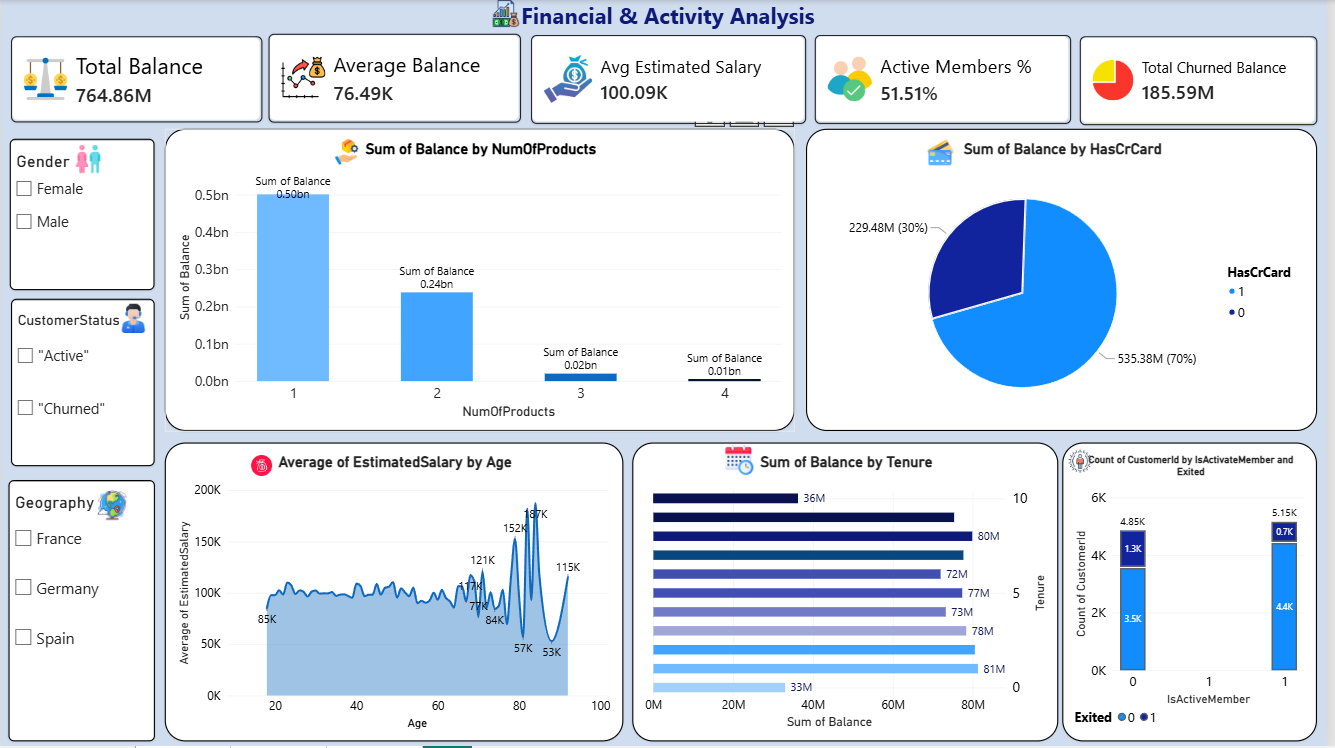

Layout of this report page (visuals, bound fields, positions):
{"tool":"powerbi","page":{"name":"Page 3","canvas":[1920,1080],"ordinal":2},"visuals":[{"type":"textbox","box":[10.9,0,1909.2,52.5],"z":0},{"type":"slicer","fields":{"Values":["Churn_Modelling.Gender"]},"box":[12.7,200.9,209.9,219],"z":1000},{"type":"slicer","fields":{"Values":["Churn_Modelling.CustomerStatus"]},"box":[14.5,432.5,208,242],"z":2000},{"type":"slicer","fields":{"Values":["Churn_Modelling.Geography"]},"box":[10.9,694.9,211.7,378.2],"z":3000},{"type":"clusteredColumnChart","title":"Sum of Balance by NumOfProducts","fields":{"Category":["Churn_Modelling.NumOfProducts"],"Y":["Sum(Churn_Modelling.Balance)"]},"box":[237.1,186.4,912.1,437.9],"z":4000},{"type":"pieChart","title":"Sum of Balance by HasCrCard ","fields":{"Category":["Churn_Modelling.HasCrCard"],"Y":["Sum(Churn_Modelling.Balance)"]},"box":[1165.4,186.4,740.2,437.9],"z":5000},{"type":"lineChart","title":"Average of EstimatedSalary by Age","fields":{"Category":["Churn_Modelling.Age"],"Y":["Avg(Churn_Modelling.EstimatedSalary)"]},"box":[237.1,640.6,664.1,432.5],"z":6000},{"type":"clusteredBarChart","title":"Sum of Balance by Tenure","fields":{"Category":["Churn_Modelling.Tenure"],"Y":["Sum(Churn_Modelling.Balance)"]},"box":[913.9,640.6,617.1,432.5],"z":7000},{"type":"columnChart","title":"Count of CustomerId by IsActivateMember and Exited","fields":{"Category":["Churn_Modelling.IsActiveMember"],"Y":["CountNonNull(Churn_Modelling.CustomerId)"],"Series":["Churn_Modelling.Exited"]},"box":[1536.4,640.6,369.2,432.5],"z":8000},{"type":"cardVisual","fields":{"Data":["Churn_Modelling.Total Balance"]},"box":[14.5,52.5,363.7,124.9],"z":9000},{"type":"cardVisual","fields":{"Data":["Churn_Modelling.Average Balance"]},"box":[387.3,48.9,365.6,128.5],"z":10000},{"type":"cardVisual","fields":{"Data":["Churn_Modelling.Avg Estimated Salary"]},"box":[767.3,50.7,398.1,128.5],"z":11000},{"type":"cardVisual","fields":{"Data":["Churn_Modelling.Active Members %"]},"box":[1178.1,50.7,371,128.5],"z":12000},{"type":"cardVisual","fields":{"Data":["Churn_Modelling.Total Churned Balance"]},"box":[1561.7,52.5,343.8,128.5],"z":13000},{"type":"image","box":[602.6,0,181,48.9],"z":14000},{"type":"image","box":[470,201.1,60,37.8],"z":15000},{"type":"image","box":[1313.3,200,93.3,40],"z":16000},{"type":"image","box":[350,658.9,56,30],"z":17000},{"type":"image","box":[1036.7,645,63.3,43.3],"z":18000},{"type":"image","box":[1545.6,645.6,33.3,43.3],"z":19000},{"type":"image","box":[103.3,210,45.6,41.1],"z":20000},{"type":"image","box":[158.9,440,64.4,42.2],"z":21000},{"type":"image","box":[130,710,61.2,43.8],"z":22000}]}

Visuals, with their boxes in screenshot pixels (x1, y1, x2, y2), scaled from the page's 1920x1080 canvas onto the 1335x748 screenshot:
textbox: bbox(8, 0, 1334, 36)
slicer - Churn_Modelling.Gender: bbox(9, 139, 155, 291)
slicer - Churn_Modelling.CustomerStatus: bbox(10, 300, 155, 467)
slicer - Churn_Modelling.Geography: bbox(8, 481, 155, 743)
"Sum of Balance by NumOfProducts" clusteredColumnChart: bbox(165, 129, 799, 432)
"Sum of Balance by HasCrCard " pieChart: bbox(810, 129, 1325, 432)
"Average of EstimatedSalary by Age" lineChart: bbox(165, 444, 627, 743)
"Sum of Balance by Tenure" clusteredBarChart: bbox(635, 444, 1065, 743)
"Count of CustomerId by IsActivateMember and Exited" columnChart: bbox(1068, 444, 1325, 743)
cardVisual - Churn_Modelling.Total Balance: bbox(10, 36, 263, 123)
cardVisual - Churn_Modelling.Average Balance: bbox(269, 34, 524, 123)
cardVisual - Churn_Modelling.Avg Estimated Salary: bbox(534, 35, 810, 124)
cardVisual - Churn_Modelling.Active Members %: bbox(819, 35, 1077, 124)
cardVisual - Churn_Modelling.Total Churned Balance: bbox(1086, 36, 1325, 125)
image: bbox(419, 0, 545, 34)
image: bbox(327, 139, 369, 165)
image: bbox(913, 139, 978, 166)
image: bbox(243, 456, 282, 477)
image: bbox(721, 447, 765, 477)
image: bbox(1075, 447, 1098, 477)
image: bbox(72, 145, 104, 174)
image: bbox(110, 305, 155, 334)
image: bbox(90, 492, 133, 522)
